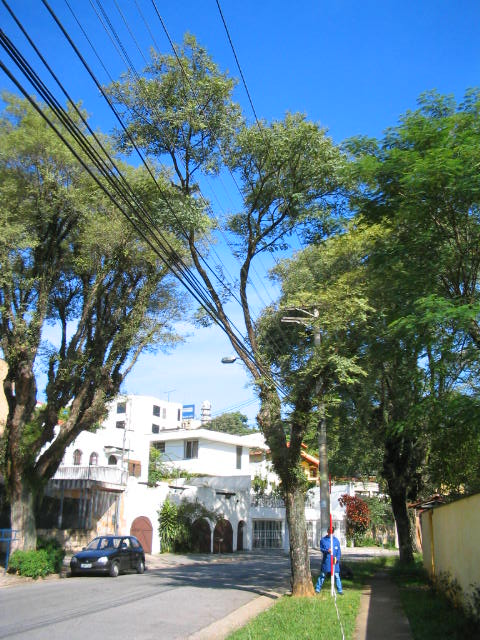crown: (109, 34, 384, 416), (2, 91, 207, 393)
stem: (270, 472, 324, 597), (4, 479, 54, 572), (383, 491, 423, 567)
stick: (319, 475, 341, 597)
tree: (107, 34, 388, 599), (1, 89, 208, 574)
